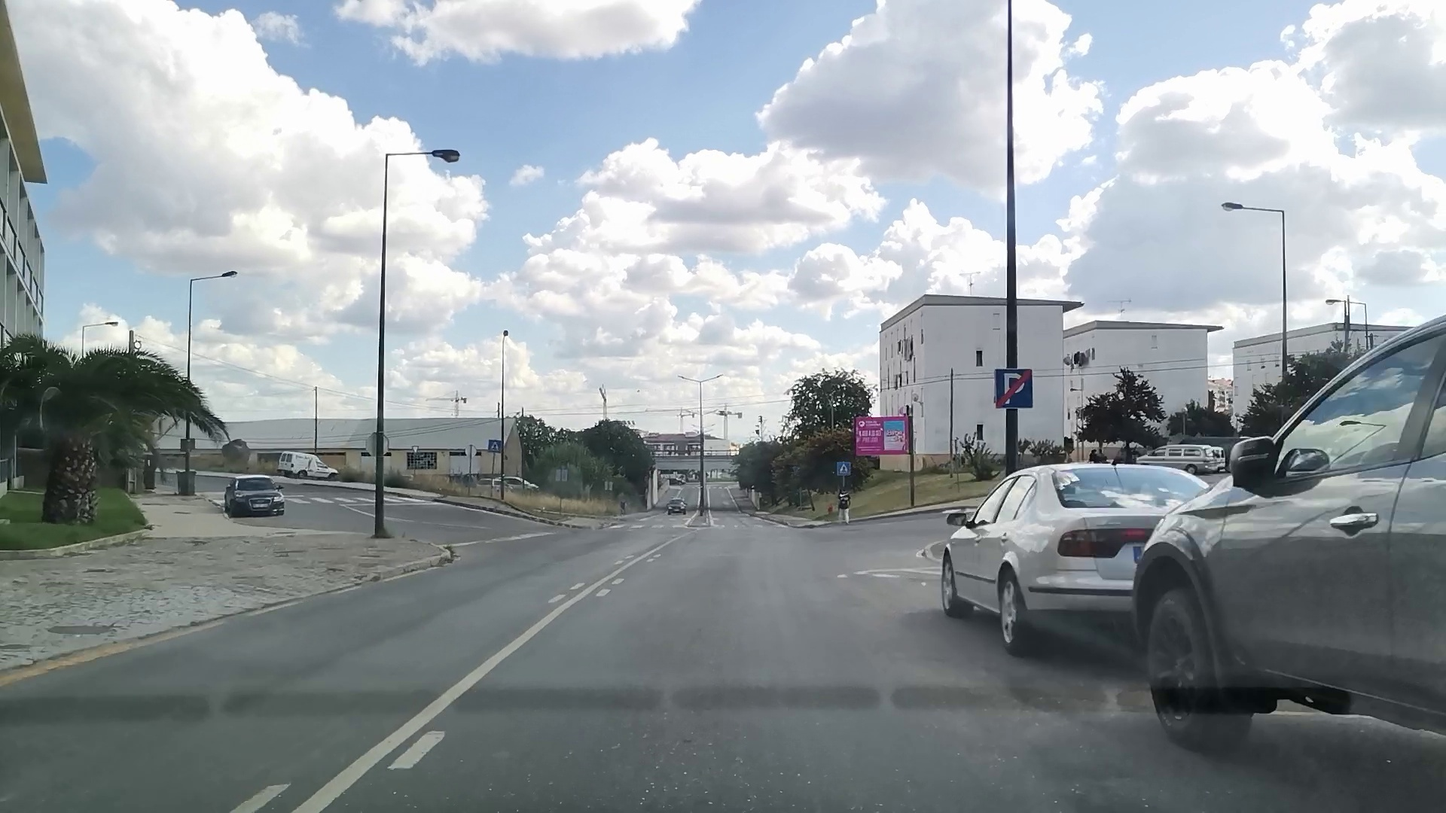Stairs: (299, 491, 426, 509)
